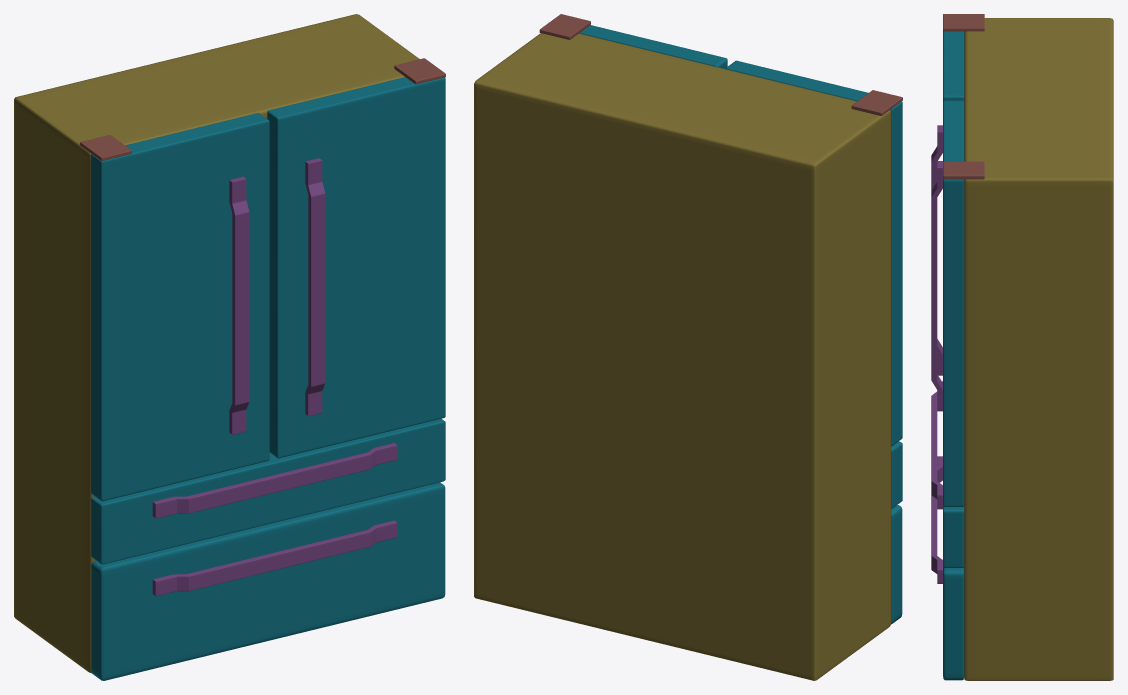
Rendered from Fridge.fbx.
3 views of the same model, side by side, from view 1: azimuth 30°, elevation 25°; view 2: azimuth 150°, elevation 25°; view 3: azimuth 270°, elevation 25° (orthographic). The views are drawn at different scales.
Visible parts, largest first — view 1: Fridge1 (×4); view 2: Fridge1 (×3); view 3: Fridge1 (×4).
Boxes of the visible parts, x1,y1,x2,y2 form: Fridge1 (×4): [14, 14, 445, 680]; Fridge1 (×3): [474, 14, 902, 680]; Fridge1 (×4): [931, 14, 1113, 680].
Size of the model in its own units: 4.5 by 6.54 by 2.14.
